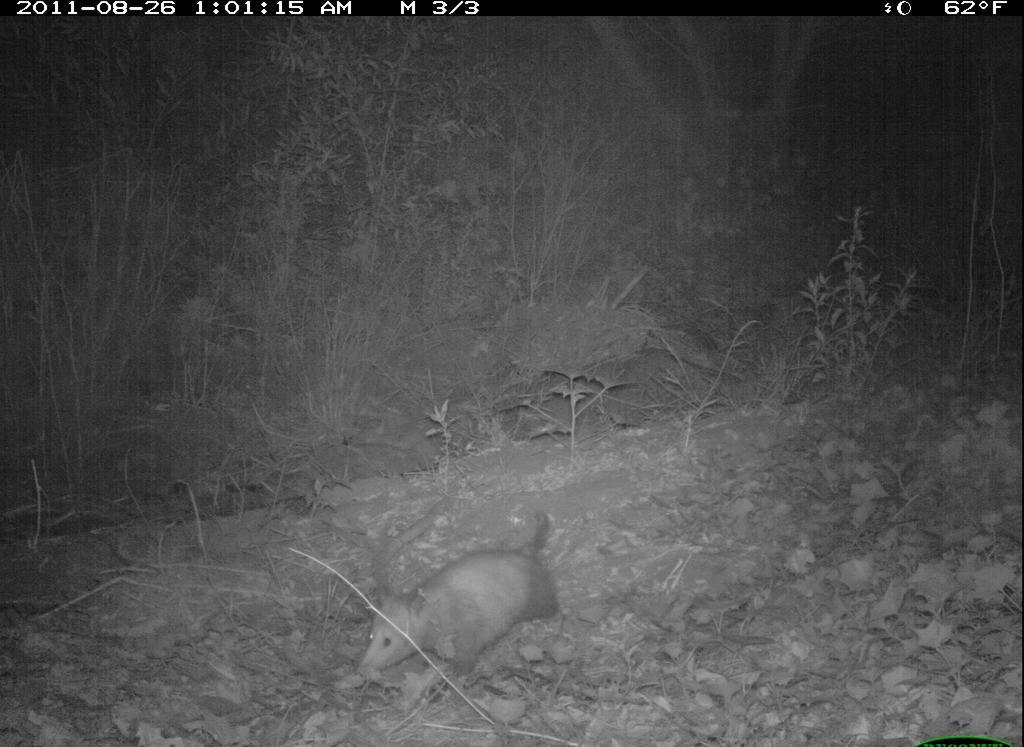opossum: (354, 507, 589, 690)
